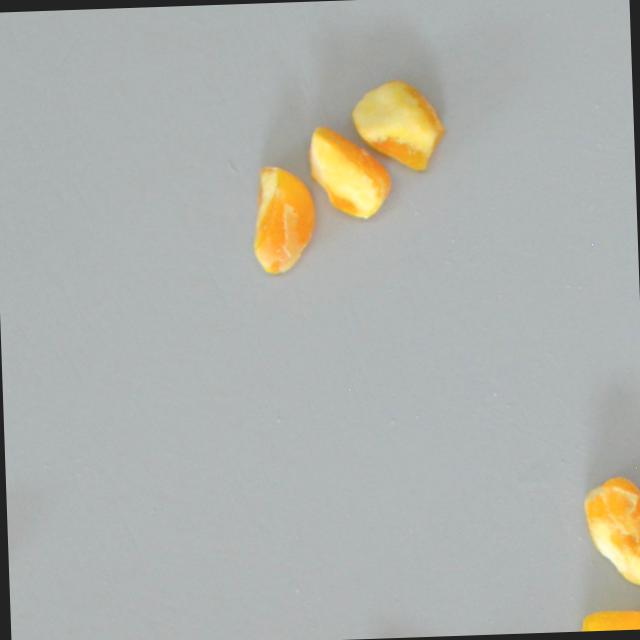pelicula: (349, 76, 446, 170), (247, 161, 320, 277), (305, 122, 391, 218), (577, 472, 640, 589), (573, 606, 640, 631)
